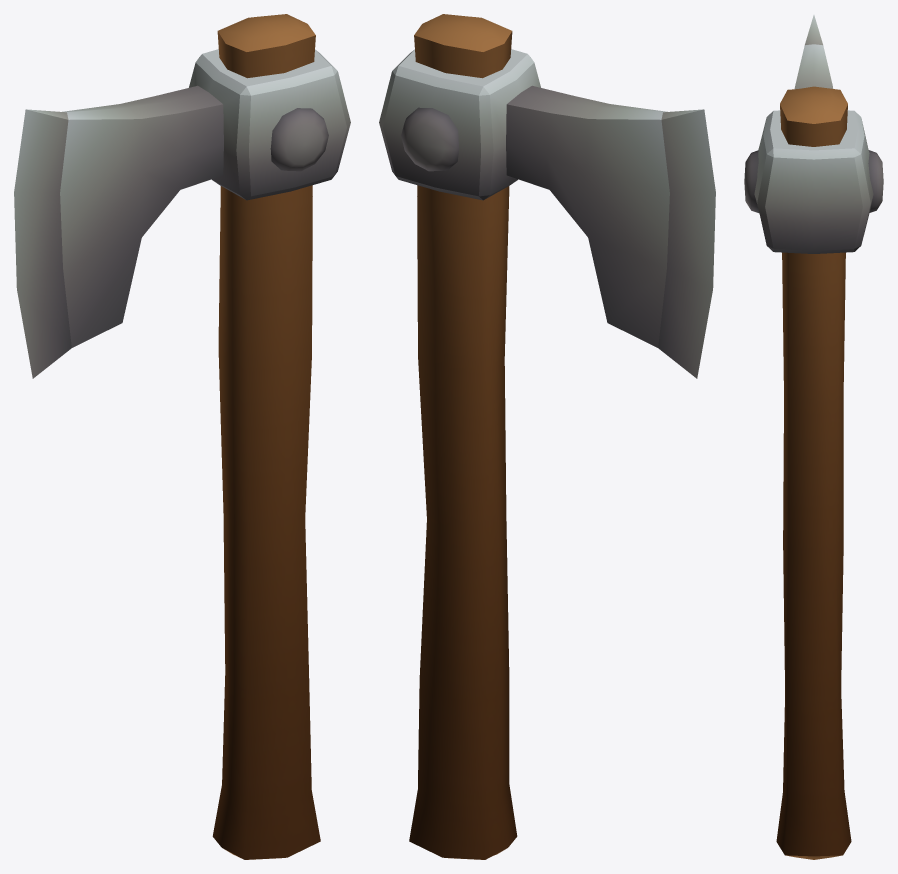
The model's file is Axe_03.obj.
The picture shows the model from 3 angles, left to right: view 1: azimuth 30°, elevation 25°; view 2: azimuth 150°, elevation 25°; view 3: azimuth 270°, elevation 25°; orthographic projection. The views are drawn at different scales.
Parts seen in each view (by area): view 1: Axe_03; view 2: Axe_03; view 3: Axe_03.
Part boxes in pixels (bbox=[...]): Axe_03: bbox=[14, 14, 350, 859]; Axe_03: bbox=[379, 14, 715, 859]; Axe_03: bbox=[744, 15, 883, 859].
Bounding box in the file's own units: 0.412 × 1.03 × 0.1729.
